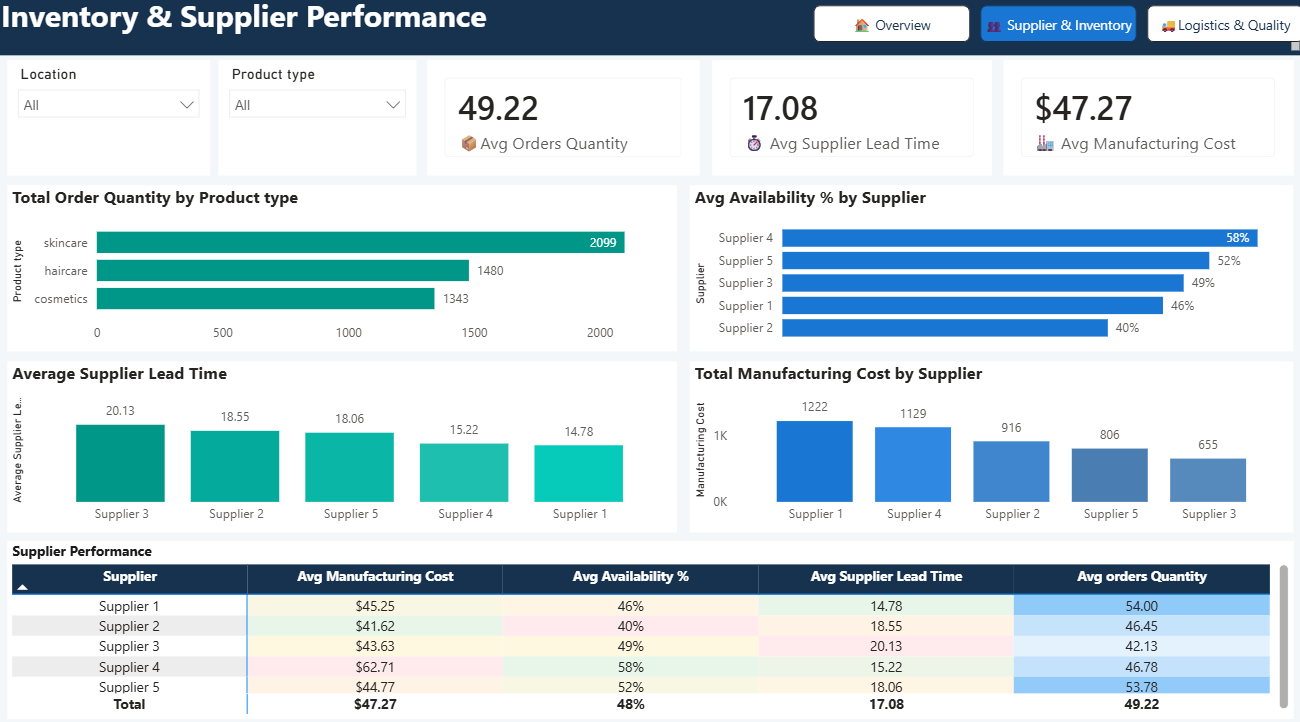

The dashboard page shown, as its layout file describes it:
{"tool":"powerbi","page":{"name":"👥 Supplier & Inventory","canvas":[1280,720],"ordinal":1},"visuals":[{"type":"textbox","title":"Inventory & Supplier Performance","box":[0,0,1280,60],"z":0},{"type":"cardVisual","fields":{"Data":["Measure Table.Average orders Quantity"]},"box":[421.9,64.8,266.6,112.5],"z":1000},{"type":"cardVisual","fields":{"Data":["Measure Table.Average Supplier Lead Time"]},"box":[700.7,64.8,273.9,112.5],"z":2000},{"type":"cardVisual","fields":{"Data":["Measure Table.Average Manufacturing Cost"]},"box":[985.6,64.8,283.7,112.5],"z":3000},{"type":"clusteredBarChart","title":" Total Order Quantity by Product type","fields":{"Category":["supply_chain_data.Product type"],"Y":["Sum(supply_chain_data.Order quantities)"]},"box":[11,187.1,655.4,162.6],"z":4000},{"type":"barChart","fields":{"Category":["supply_chain_data.Supplier name"],"Y":["Measure Table.Avg Availability %"]},"box":[678.7,187.1,590.6,162.6],"z":5000},{"type":"columnChart","title":"Average Supplier Lead Time","fields":{"Category":["supply_chain_data.Supplier name"],"Y":["Measure Table.Average Supplier Lead Time"]},"box":[11,359.5,655.4,167.5],"z":6000},{"type":"clusteredColumnChart","title":"Total Manufacturing Cost by Supplier ","fields":{"Category":["supply_chain_data.Supplier name"],"Y":["Sum(supply_chain_data.Manufacturing costs)"]},"box":[678.7,359.5,590.6,167.5],"z":7000},{"type":"pivotTable","title":"Supplier Performance","fields":{"Rows":["supply_chain_data.Supplier name"],"Values":["Measure Table.Average Manufacturing Cost","Measure Table.Avg Availability %","Measure Table.Average Supplier Lead Time","Measure Table.Average orders Quantity"]},"box":[11,535.6,1258.3,173.6],"z":8000},{"type":"pageNavigator","box":[799.3,11.5,480.4,36.1],"z":9000},{"type":"slicer","fields":{"Values":["supply_chain_data.Location"]},"box":[11,64.8,198.1,112.5],"z":10000},{"type":"slicer","fields":{"Values":["supply_chain_data.Product type"]},"box":[217.7,64.8,193.2,112.5],"z":11000}]}

Visuals, with their boxes in screenshot pixels (x1, y1, x2, y2), scaled from the page's 1280x720 canvas onto the 1300x722 screenshot:
"Inventory & Supplier Performance" textbox: (left=0, top=0, right=1299, bottom=60)
cardVisual - Measure Table.Average orders Quantity: (left=428, top=65, right=699, bottom=178)
cardVisual - Measure Table.Average Supplier Lead Time: (left=712, top=65, right=990, bottom=178)
cardVisual - Measure Table.Average Manufacturing Cost: (left=1001, top=65, right=1289, bottom=178)
" Total Order Quantity by Product type" clusteredBarChart: (left=11, top=188, right=677, bottom=351)
barChart - supply_chain_data.Supplier name x Measure Table.Avg Availability %: (left=689, top=188, right=1289, bottom=351)
"Average Supplier Lead Time" columnChart: (left=11, top=360, right=677, bottom=528)
"Total Manufacturing Cost by Supplier " clusteredColumnChart: (left=689, top=360, right=1289, bottom=528)
"Supplier Performance" pivotTable: (left=11, top=537, right=1289, bottom=711)
pageNavigator: (left=812, top=12, right=1299, bottom=48)
slicer - supply_chain_data.Location: (left=11, top=65, right=212, bottom=178)
slicer - supply_chain_data.Product type: (left=221, top=65, right=417, bottom=178)
